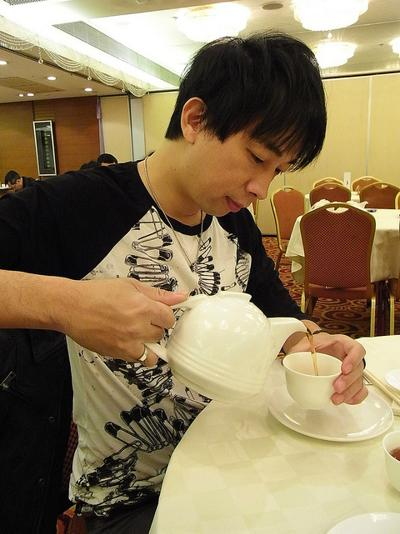person: (1, 36, 368, 533)
